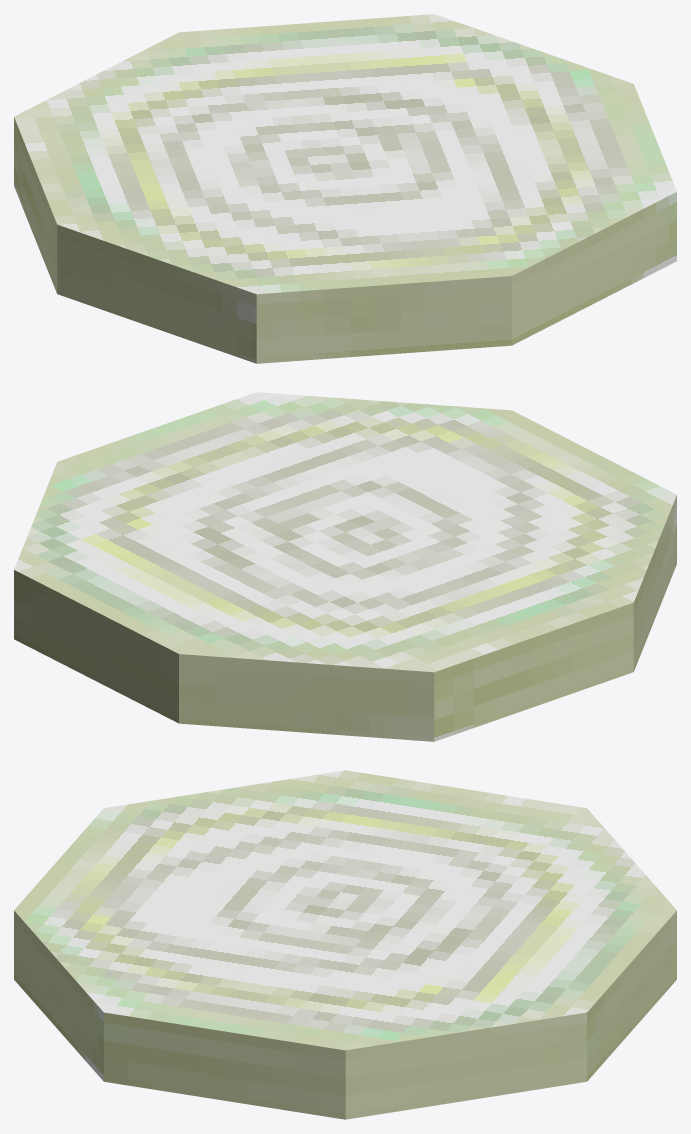
Rendered from tamanegi.gltf.
3 renders of one model, top to bottom at view 1: azimuth 30°, elevation 25°; view 2: azimuth 150°, elevation 25°; view 3: azimuth 270°, elevation 25°, orthographic.
Parts seen in each view (by area): view 1: Cube; view 2: Cube; view 3: Cube.
Boxes of the visible parts, bbox=[...] form: Cube: bbox=[14, 14, 676, 363]; Cube: bbox=[14, 392, 676, 741]; Cube: bbox=[14, 770, 676, 1119].
Bounding box in the file's own units: 0.2497 × 0.0288 × 0.2497.
1 material, 1 textured.
